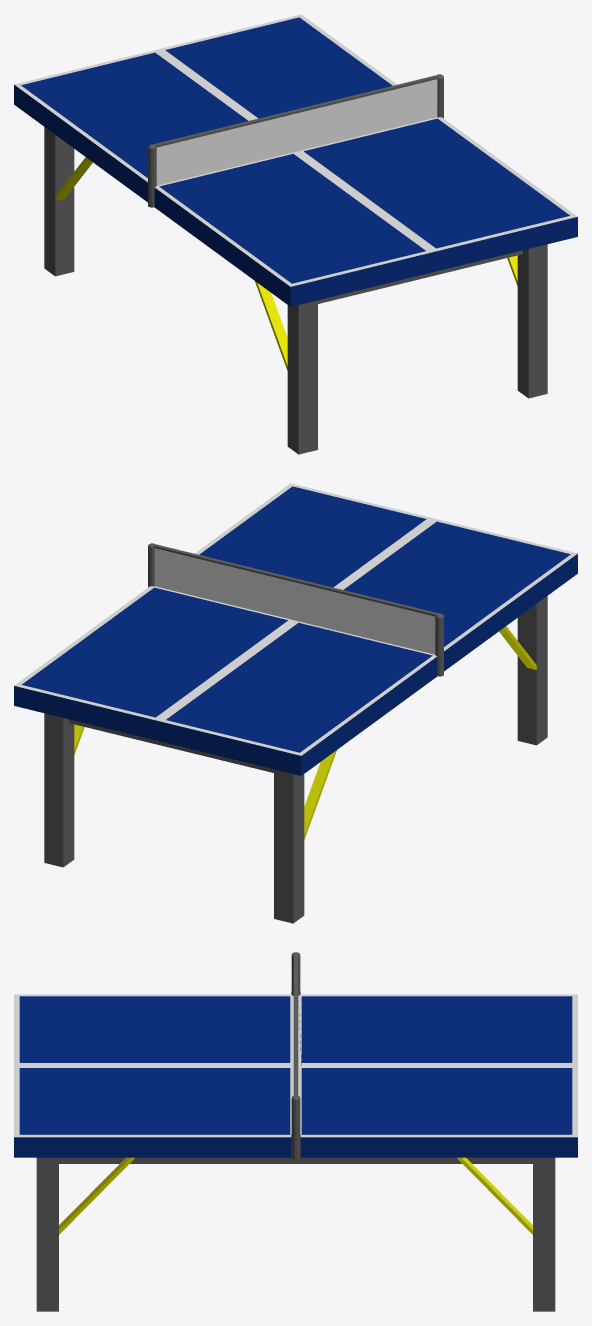
The model's file is 탁구대.fbx.
The picture shows the model from 3 angles, top to bottom: view 1: azimuth 30°, elevation 25°; view 2: azimuth 150°, elevation 25°; view 3: azimuth 270°, elevation 25°; orthographic projection.
Parts seen in each view (by area): view 1: 탁구장; view 2: 탁구장; view 3: 탁구장.
Part boxes in pixels (box(x1,y1,x2,y2)): 탁구장: box(14, 14, 577, 454); 탁구장: box(14, 483, 577, 923); 탁구장: box(14, 952, 577, 1311).
Bounding box in the file's own units: 1540 × 1100 × 2500.
